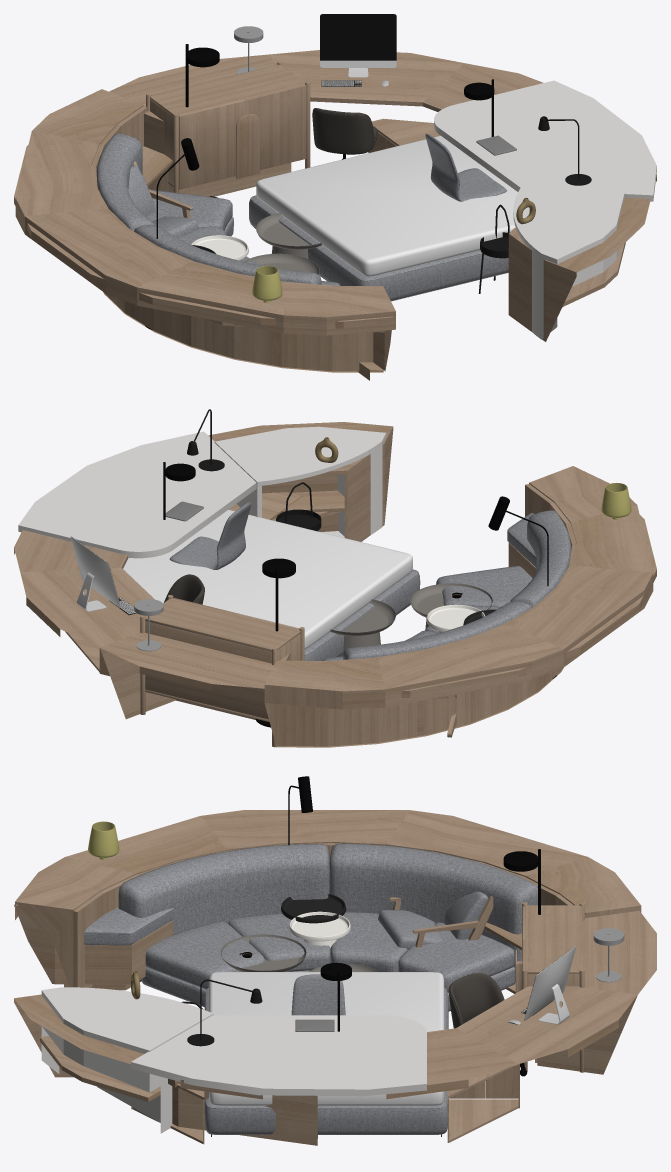
Rendered from furniture-office.glb.
3 renders of one model, top to bottom at view 1: azimuth 30°, elevation 25°; view 2: azimuth 150°, elevation 25°; view 3: azimuth 270°, elevation 25°, orthographic. The views are drawn at different scales.
Parts seen in each view (by area): view 1: live, sleep, work; view 2: live, work, sleep; view 3: live, work, sleep.
Boxes of the visible parts, <box> form: live: <box>15,44,656,372</box>; sleep: <box>128,61,517,329</box>; work: <box>14,14,656,380</box>; live: <box>18,409,653,747</box>; work: <box>14,422,656,735</box>; sleep: <box>65,492,556,747</box>; live: <box>15,810,641,1133</box>; work: <box>14,821,656,1145</box>; sleep: <box>131,776,584,1144</box>.
Bounding box in the file's own units: 5.12 × 1.55 × 4.96.
Materials: 34 (6 with a texture image).
